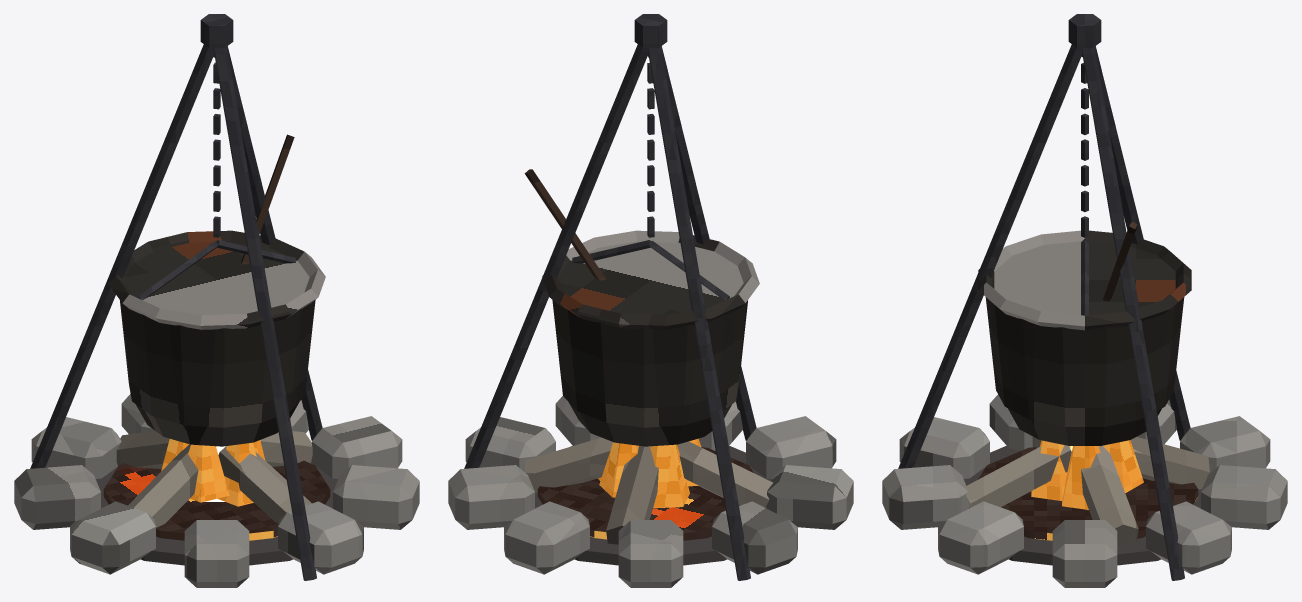
Rendered from hearth_cauldron.glb.
3 views of the same model, side by side, from view 1: azimuth 30°, elevation 25°; view 2: azimuth 150°, elevation 25°; view 3: azimuth 270°, elevation 25° (orthographic).
Parts seen in each view (by area): view 1: body, lamp_on; view 2: body, lamp_on; view 3: body, lamp_on.
Boxes of the visible parts, x1,y1,x2,y2 form: body: (14, 14, 419, 587); lamp_on: (103, 439, 330, 540); body: (448, 14, 853, 587); lamp_on: (537, 438, 753, 540); body: (882, 14, 1287, 587); lamp_on: (978, 440, 1198, 540).
Bounding box in the file's own units: 0.9869 × 1.34 × 1.
10 materials, 7 textured.
